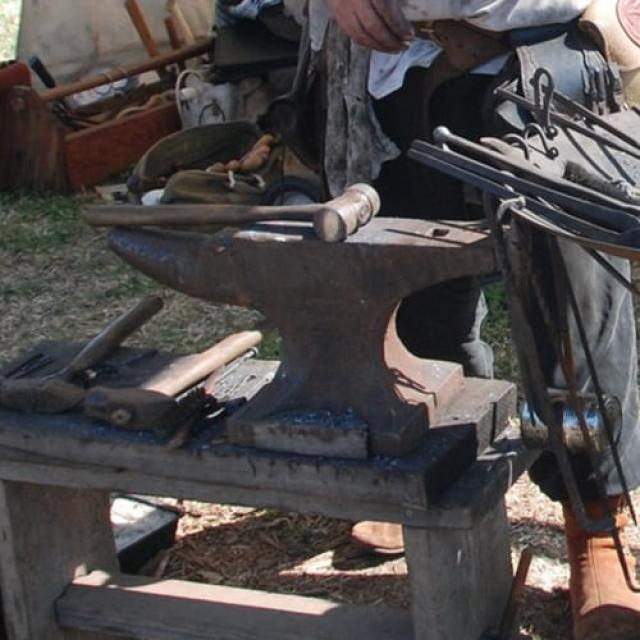hammer: (1, 288, 269, 440), (64, 172, 388, 252)
